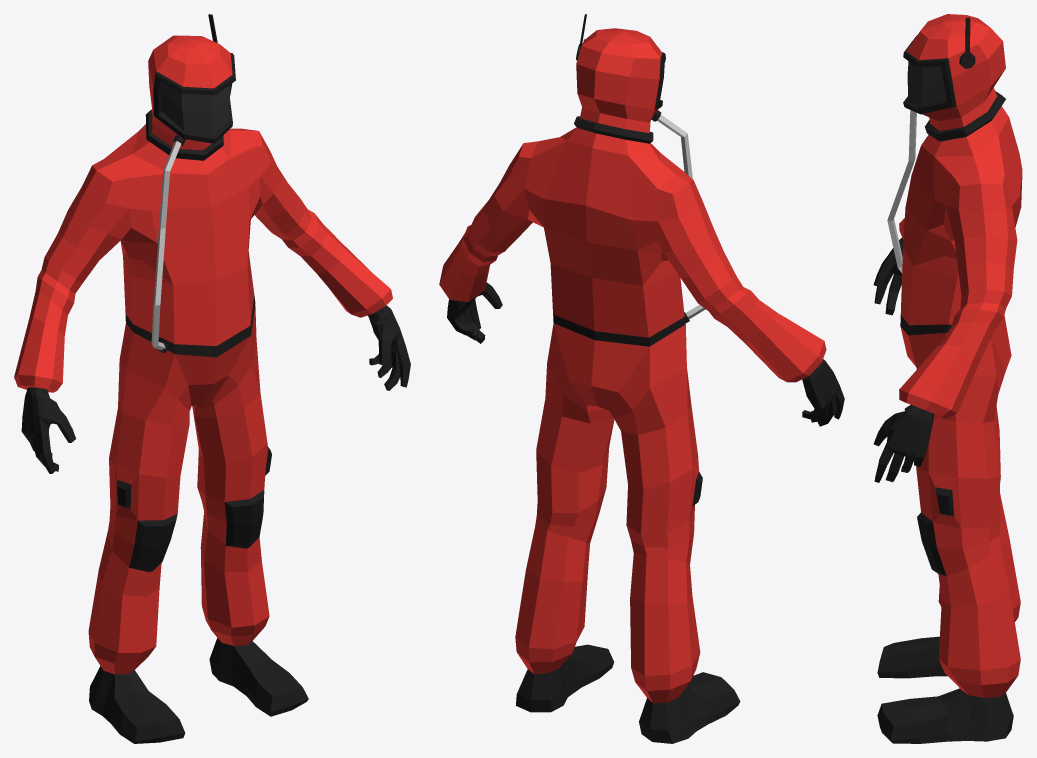
Rendered from astronout_colored_withoutbackpack.fbx.
3 renders of one model, left to right at view 1: azimuth 30°, elevation 25°; view 2: azimuth 150°, elevation 25°; view 3: azimuth 270°, elevation 25°, orthographic. The views are drawn at different scales.
Parts seen in each view (by area): view 1: BaseMeshBKP.001; view 2: BaseMeshBKP.001; view 3: BaseMeshBKP.001.
Boxes of the visible parts, <box> form: BaseMeshBKP.001: <box>14,14,410,743</box>; BaseMeshBKP.001: <box>439,14,844,743</box>; BaseMeshBKP.001: <box>873,14,1022,743</box>.
Bounding box in the file's own units: 276 × 484 × 93.86.
